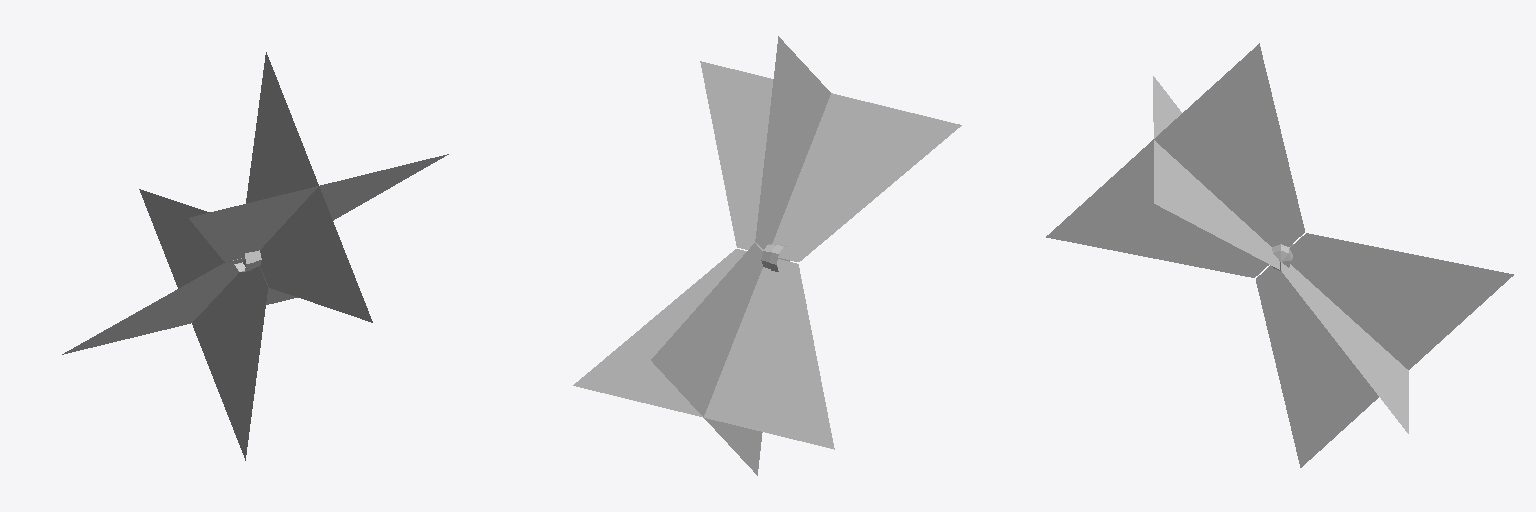
Rendered from stg400_MotRotlightA_w6_23.obj.
3 views of the same model, side by side, from view 1: azimuth 30°, elevation 25°; view 2: azimuth 150°, elevation 25°; view 3: azimuth 270°, elevation 25° (orthographic).
Visible parts, largest first — view 1: polygon4; view 2: polygon4; view 3: polygon4.
Boxes of the visible parts, box(x1,y1,x2,y2) form: polygon4: box(62, 52, 448, 460); polygon4: box(573, 36, 961, 475); polygon4: box(1046, 43, 1513, 467).
Size of the model in its own units: 91.26 by 141 by 141.